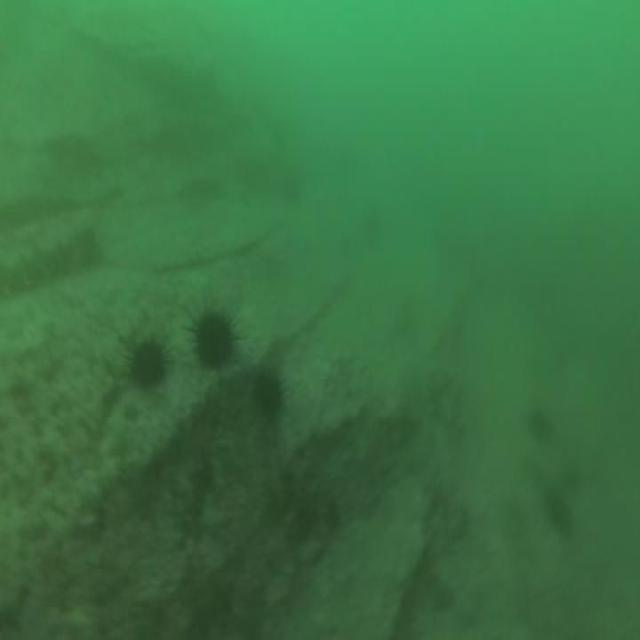echinus: (193, 313, 234, 365), (130, 340, 164, 384), (254, 373, 283, 419)
holothurian: (4, 238, 76, 290)
starfish: (529, 441, 566, 499)
